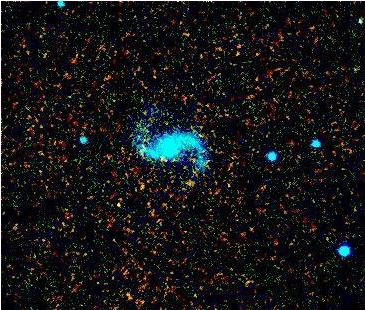star: (173, 169, 203, 199)
